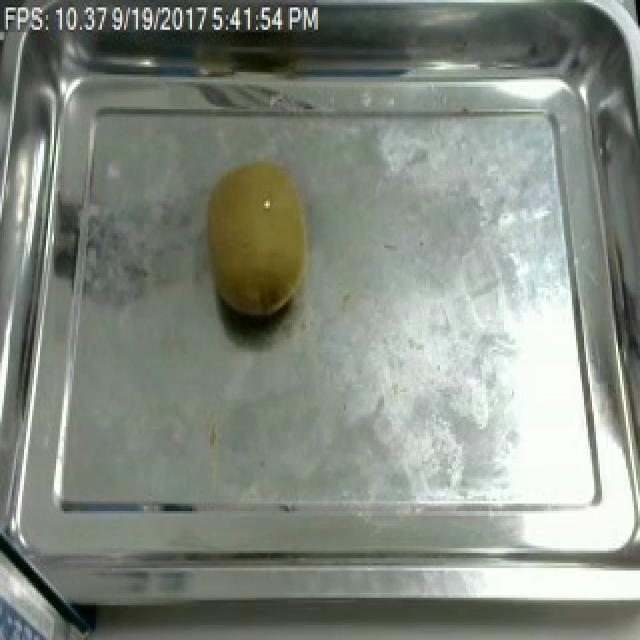Fruit: (196, 152, 320, 328)
